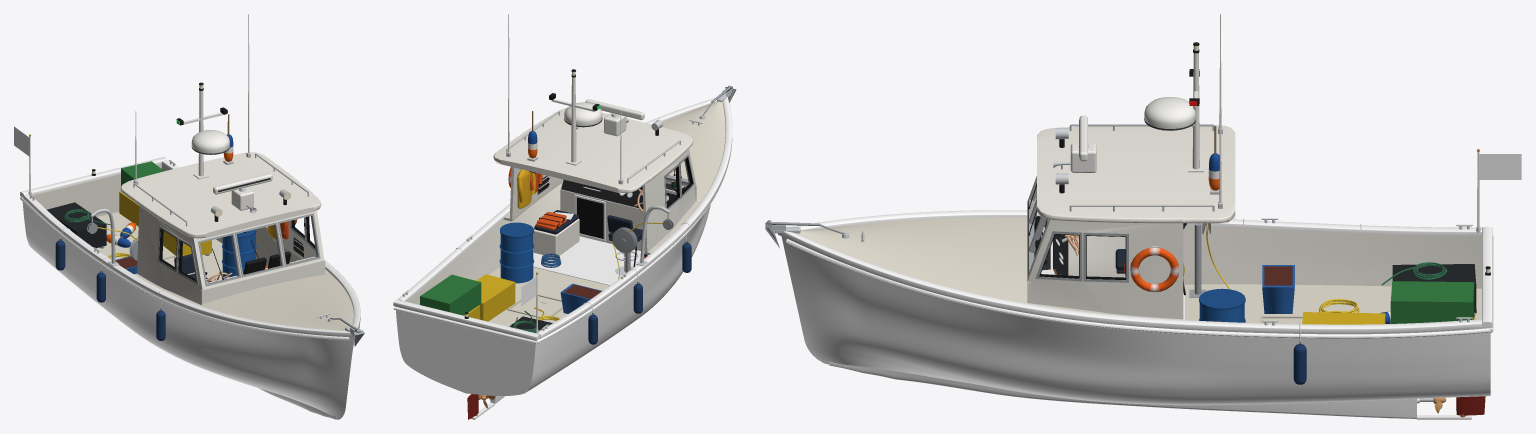
Rendered from lobster-boat.glb.
The picture shows the model from 3 angles, left to right: view 1: azimuth 30°, elevation 25°; view 2: azimuth 150°, elevation 25°; view 3: azimuth 270°, elevation 25°; orthographic projection. The views are drawn at different scales.
Parts seen in each view (by area): view 1: Beach hut lobster-boat; view 2: Beach hut lobster-boat; view 3: Beach hut lobster-boat.
Boxes of the visible parts, box(x1,y1,x2,y2) form: Beach hut lobster-boat: box(14, 14, 364, 419); Beach hut lobster-boat: box(393, 14, 736, 419); Beach hut lobster-boat: box(765, 14, 1521, 419).
Bounding box in the file's own units: 3.48 × 5.63 × 8.74.
